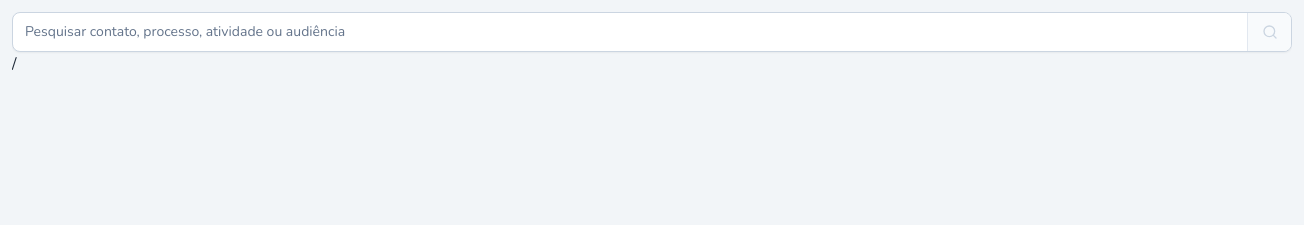
Test: GlobalSearch › abre diretamente uma sugestão clicada
Type "Maria" into the search field named "Busca global" at (630, 32), box [13,13,1247,51]
Wait 300 ms
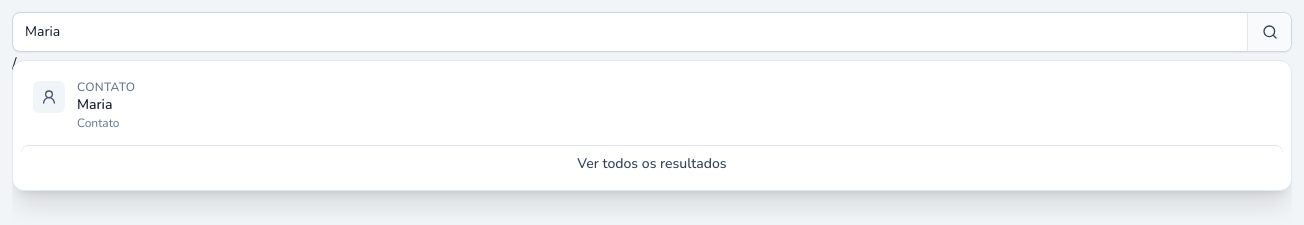
Click the option "Contato Maria Contato" at (49, 97), box [21,69,1283,141]
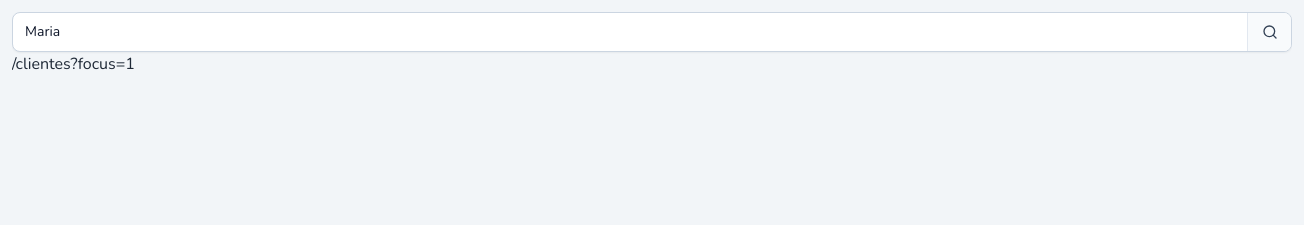
Expected: the text with test id "location" reads "/clientes?focus=1", [12,53,135,75]
